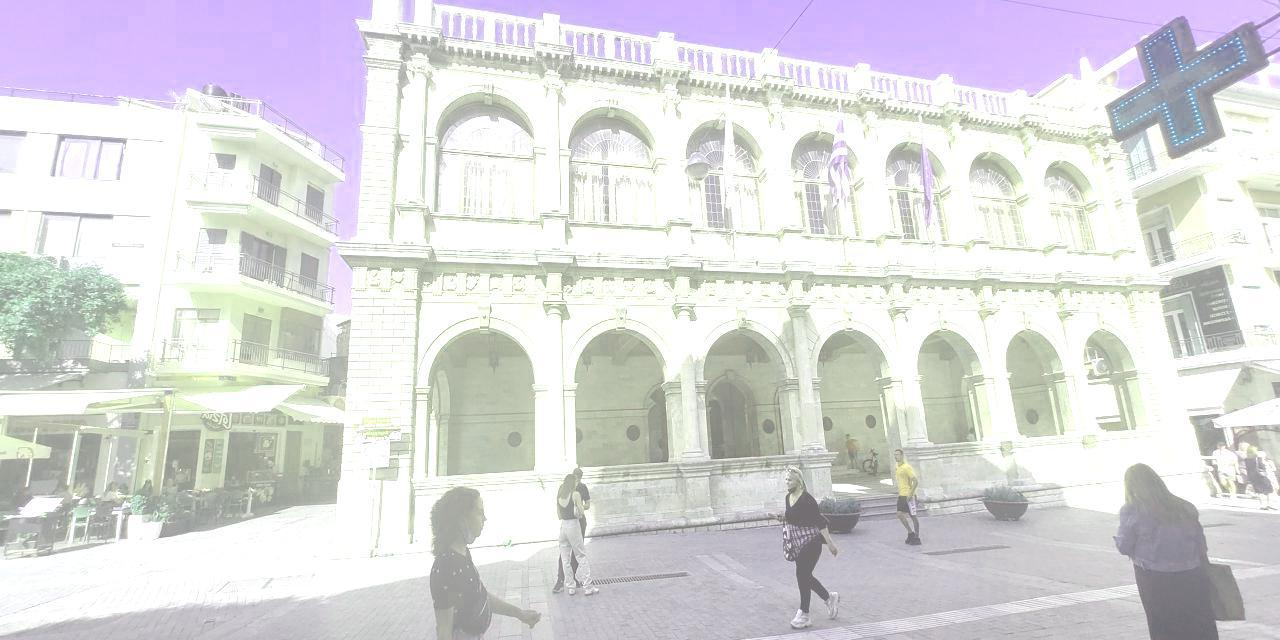Loggia: (317, 1, 1223, 566)
